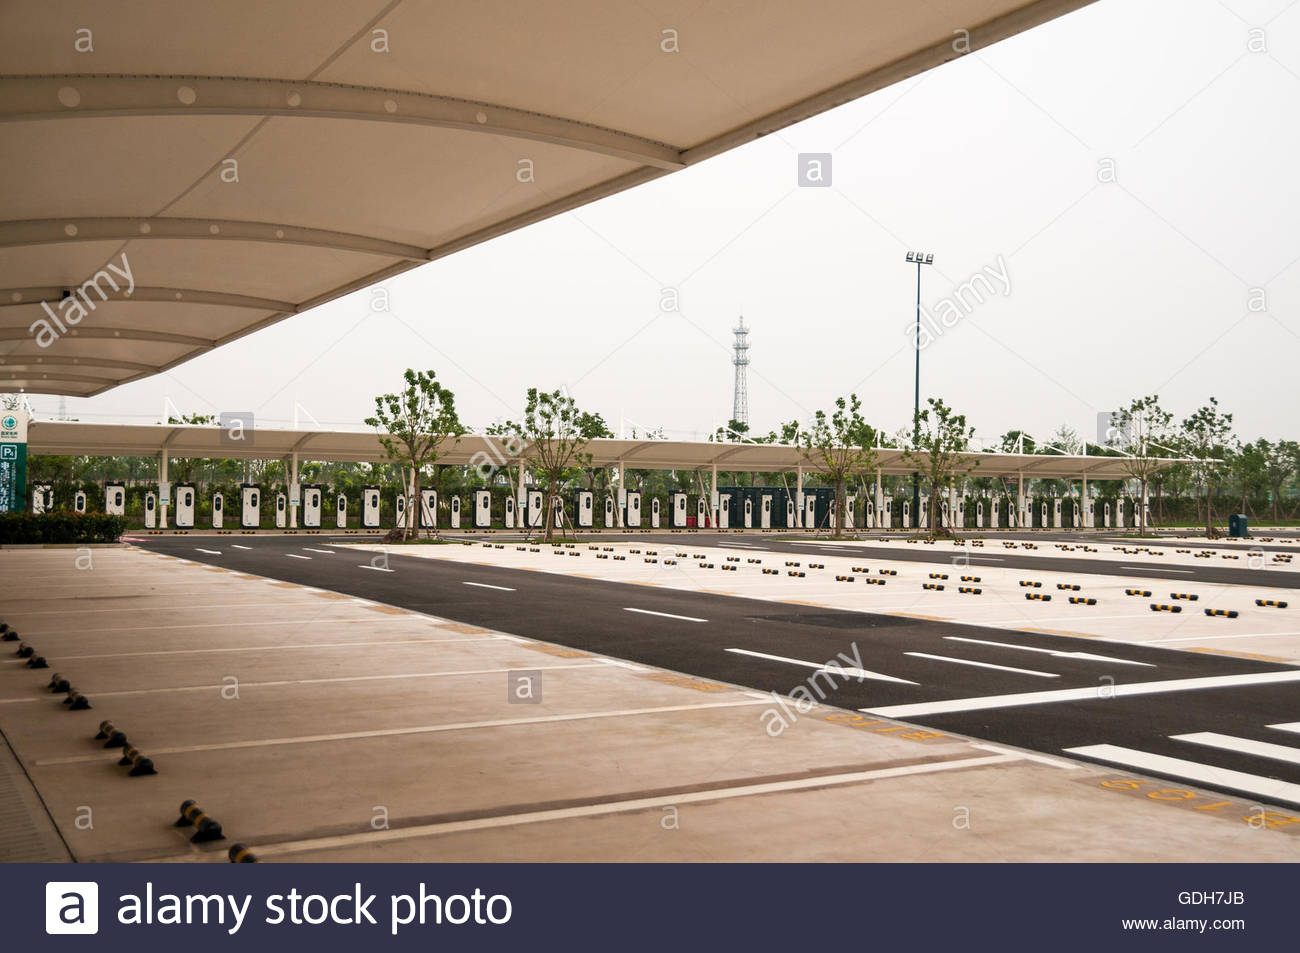empyt_space: (1, 689, 1104, 867), (1, 657, 855, 771), (1, 630, 649, 709), (1, 604, 547, 663)
